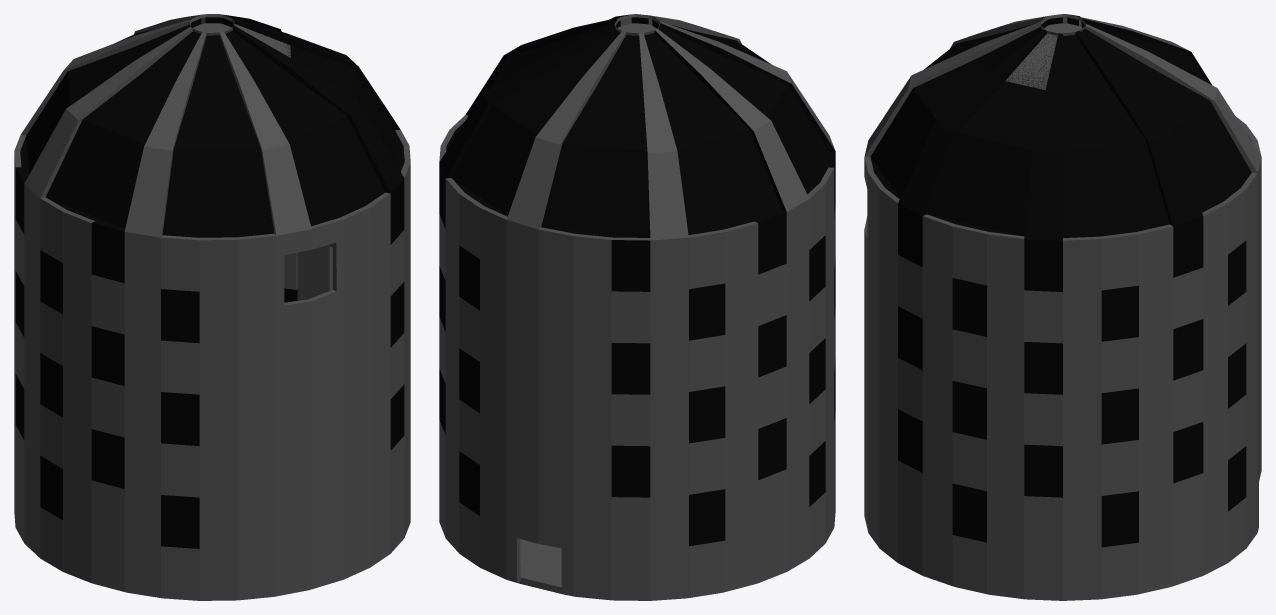
The model's file is finalroom1.fbx.
3 renders of one model, left to right at view 1: azimuth 30°, elevation 25°; view 2: azimuth 150°, elevation 25°; view 3: azimuth 270°, elevation 25°, orthographic.
Parts seen in each view (by area): view 1: Cylinder; view 2: Cylinder, Cylinder.002; view 3: Cylinder.
Boxes of the visible parts, box(x1,y1,x2,y2) form: Cylinder: box(14, 14, 410, 600); Cylinder: box(439, 14, 835, 600); Cylinder.002: box(517, 539, 747, 600); Cylinder: box(864, 14, 1261, 600).
Bounding box in the file's own units: 5673 × 7818 × 5673.
